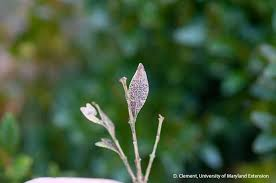Diseased_Leaves: (80, 105, 120, 140), (132, 70, 143, 111)
